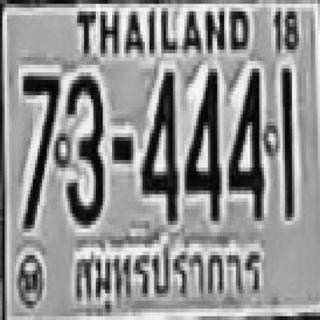N01: (281, 65, 293, 217)
N03: (63, 73, 103, 221)
N04: (140, 66, 177, 219), (226, 65, 262, 217), (184, 65, 220, 217)
N07: (21, 72, 58, 225), (21, 72, 58, 179)
P57: (73, 237, 269, 317)
